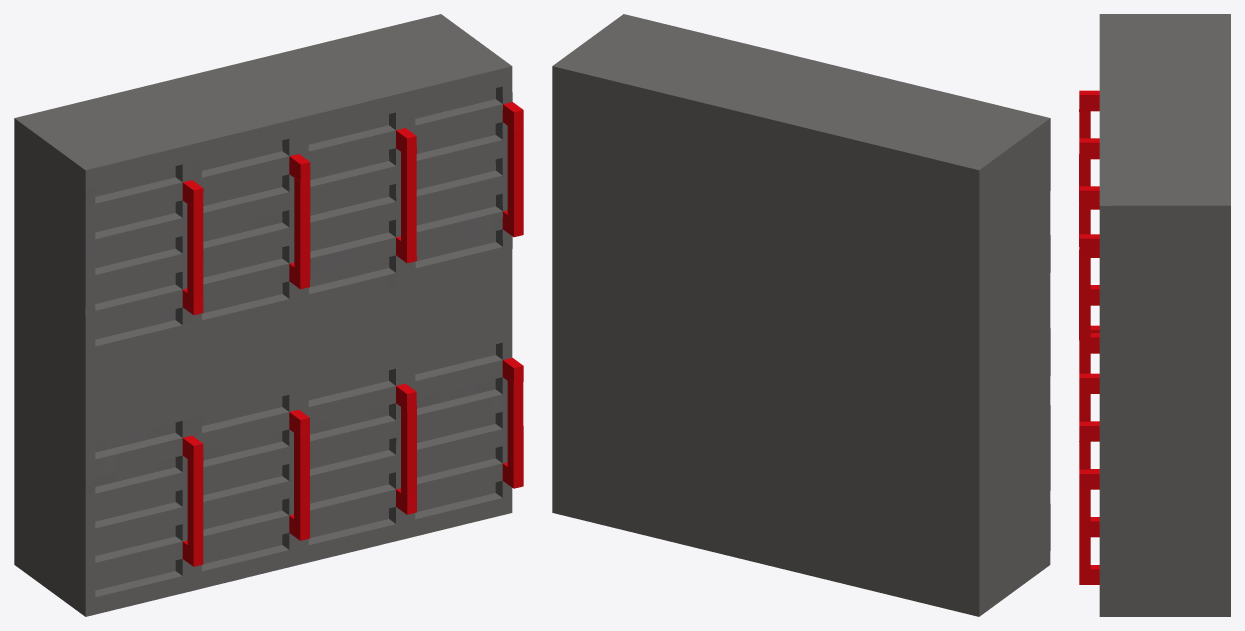
The model's file is dolap2.fbx.
3 views of the same model, side by side, from view 1: azimuth 30°, elevation 25°; view 2: azimuth 150°, elevation 25°; view 3: azimuth 270°, elevation 25° (orthographic). The views are drawn at different scales.
Parts seen in each view (by area): view 1: Cube.007; view 2: Cube.007; view 3: Cube.007.
Boxes of the visible parts, <box> form: Cube.007: <box>14,14,523,616</box>; Cube.007: <box>552,14,1050,616</box>; Cube.007: <box>1079,14,1230,616</box>.
Size of the model in its own units: 1117 by 1117 by 374.
